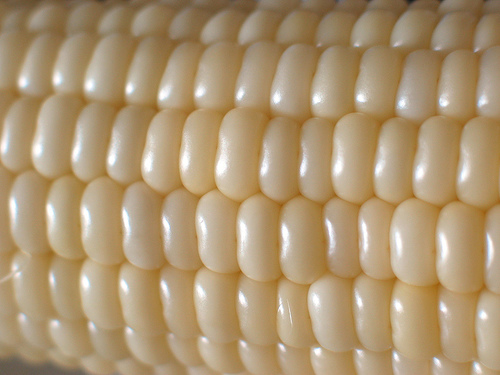corn: (0, 1, 498, 374)
